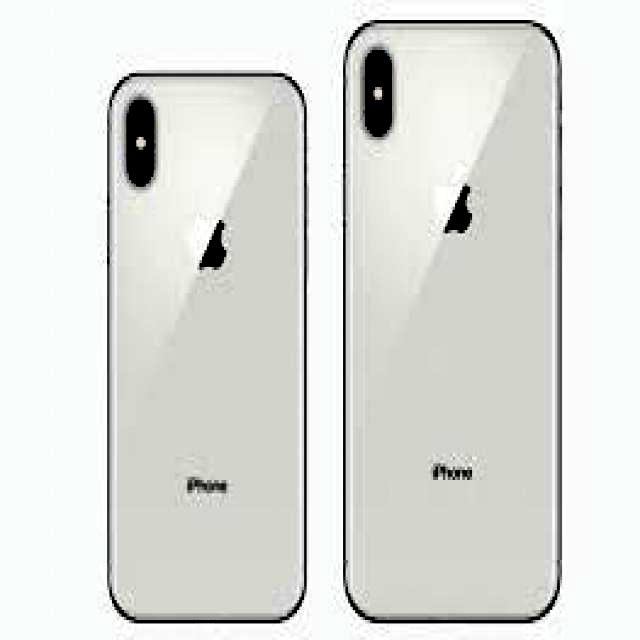lens_back: (123, 96, 158, 133), (362, 101, 396, 138), (361, 48, 397, 82), (126, 152, 154, 188)
phone: (339, 13, 576, 630), (99, 63, 314, 626)
